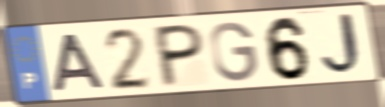2: (103, 26, 153, 91)
6: (263, 14, 316, 83)
A: (51, 32, 108, 95)
G: (207, 20, 260, 85)
J: (319, 10, 369, 79)
P: (154, 21, 206, 90)
